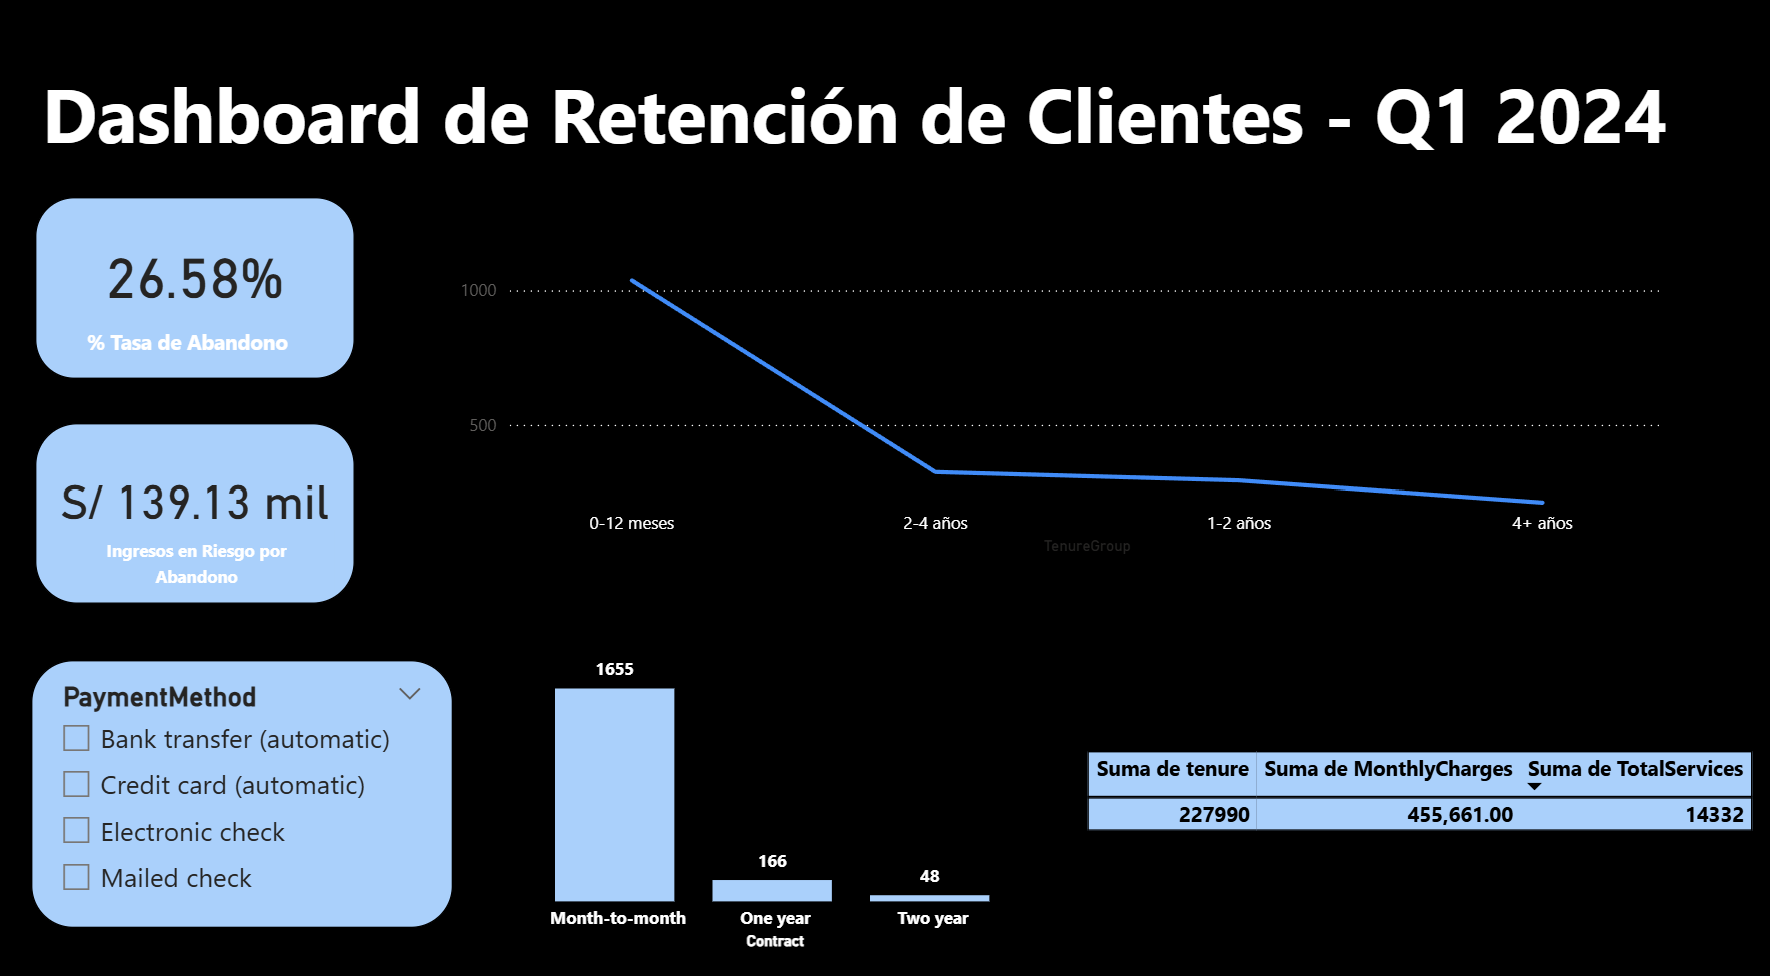

The page's visual inventory and layout, read from the dashboard file:
{"tool":"powerbi","page":{"name":"Página 1","canvas":[1280,720],"ordinal":0},"visuals":[{"type":"card","fields":{"Values":["Avg(Telco_Churn_Clean.Churn)"]},"box":[35,150,228.3,130],"z":0},{"type":"card","fields":{"Values":["Sum(Telco_Churn_Clean.MonthlyCharges)"]},"box":[35,311.7,228.3,128.3],"z":1000},{"type":"columnChart","fields":{"Category":["Telco_Churn_Clean.Contract"],"Y":["Sum(Telco_Churn_Clean.Churn)"]},"box":[356.7,461.7,415,230],"z":2000},{"type":"lineChart","fields":{"Category":["Telco_Churn_Clean.TenureGroup"],"Y":["Sum(Telco_Churn_Clean.Churn)"]},"box":[335,165,870,245],"z":3000},{"type":"slicer","fields":{"Values":["Telco_Churn_Clean.PaymentMethod"]},"box":[33.3,480,301.7,191.7],"z":4000},{"type":"textbox","box":[35.7,48.6,1212.9,82.9],"z":5000},{"type":"textbox","box":[62.2,238.9,163.3,30],"z":6000},{"type":"textbox","box":[52.2,386.7,196.7,46.7],"z":7000},{"type":"tableEx","fields":{"Values":["Sum(Telco_Churn_Clean.tenure)","Sum(Telco_Churn_Clean.MonthlyCharges)","Sum(Telco_Churn_Clean.TotalServices)"]},"box":[771.7,530,508.3,95],"z":8000}]}

Visuals, with their boxes in screenshot pixels (x1, y1, x2, y2), scaled from the page's 1280x720 canvas onto the 1770x976 screenshot:
card - Avg(Telco_Churn_Clean.Churn): select_region(48, 203, 364, 380)
card - Sum(Telco_Churn_Clean.MonthlyCharges): select_region(48, 423, 364, 596)
columnChart - Telco_Churn_Clean.Contract x Sum(Telco_Churn_Clean.Churn): select_region(493, 626, 1067, 938)
lineChart - Telco_Churn_Clean.TenureGroup x Sum(Telco_Churn_Clean.Churn): select_region(463, 224, 1666, 556)
slicer - Telco_Churn_Clean.PaymentMethod: select_region(46, 651, 463, 911)
textbox: select_region(49, 66, 1727, 178)
textbox: select_region(86, 324, 312, 365)
textbox: select_region(72, 524, 344, 587)
tableEx - Sum(Telco_Churn_Clean.tenure) x Sum(Telco_Churn_Clean.MonthlyCharges): select_region(1067, 718, 1769, 847)
